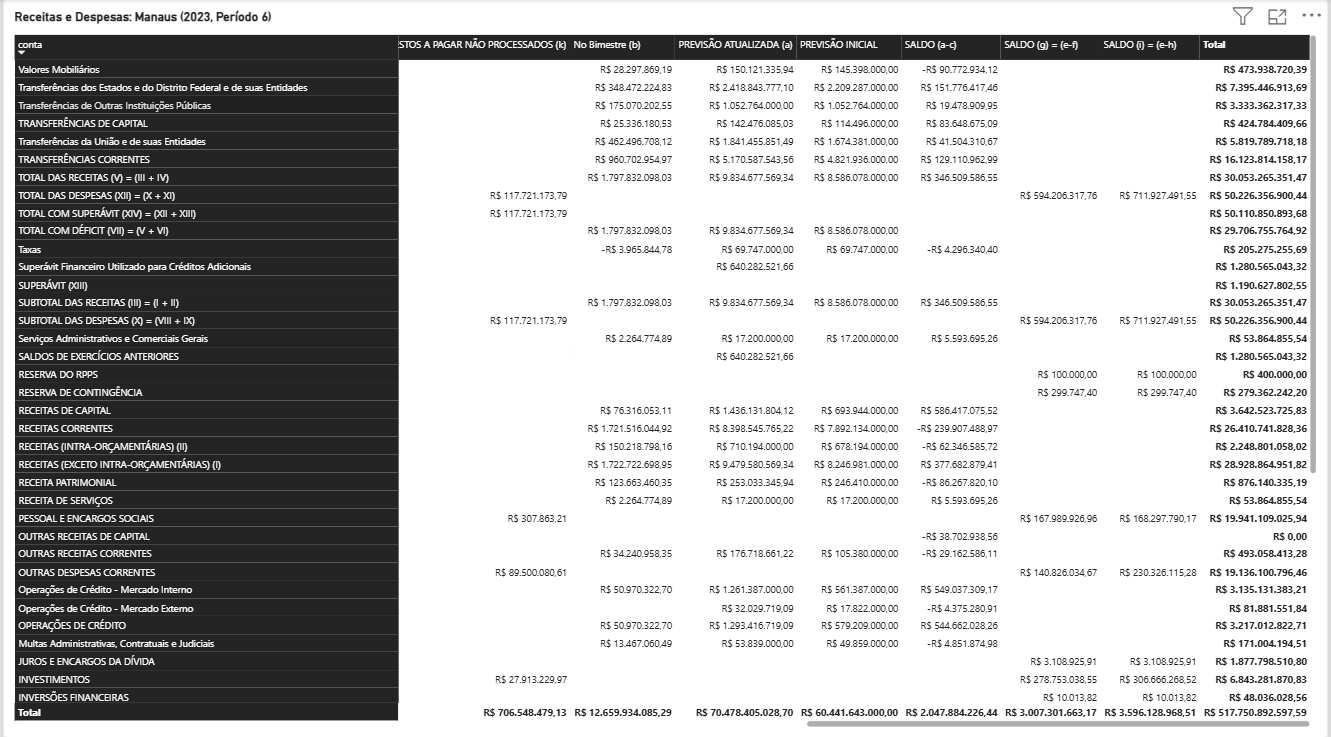

Layout of this report page (visuals, bound fields, positions):
{"tool":"powerbi","page":{"name":"Página 1","canvas":[1920,1080],"ordinal":0},"visuals":[{"type":"pivotTable","title":"Receitas e Despesas: Manaus (2023, Período 6)","fields":{"Columns":["rreo_manaus_2023_periodo6.coluna"],"Rows":["rreo_manaus_2023_periodo6.conta"],"Values":["Sum(rreo_manaus_2023_periodo6.valor)"]},"box":[0,0,1920,1072],"z":0}]}

Visuals, with their boxes in screenshot pixels (x1, y1, x2, y2), scaled from the page's 1920x1080 canvas onto the 1331x737 screenshot:
"Receitas e Despesas: Manaus (2023, Período 6)" pivotTable: box=[0, 0, 1330, 732]
